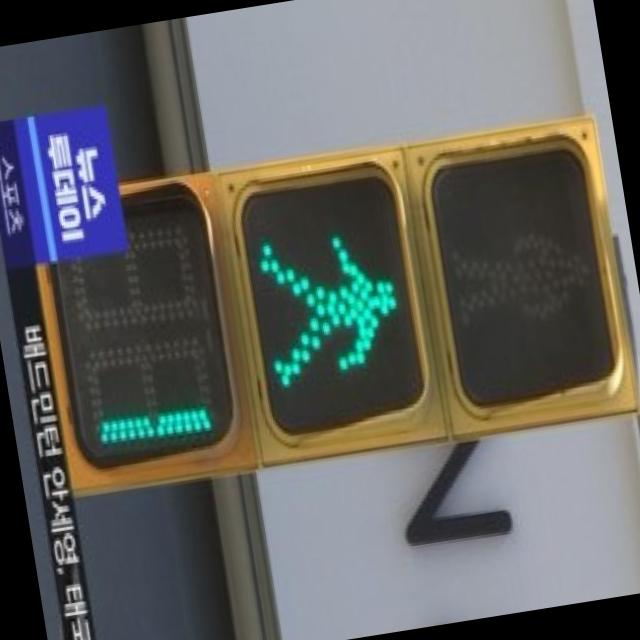green_light: (48, 210, 426, 458)
